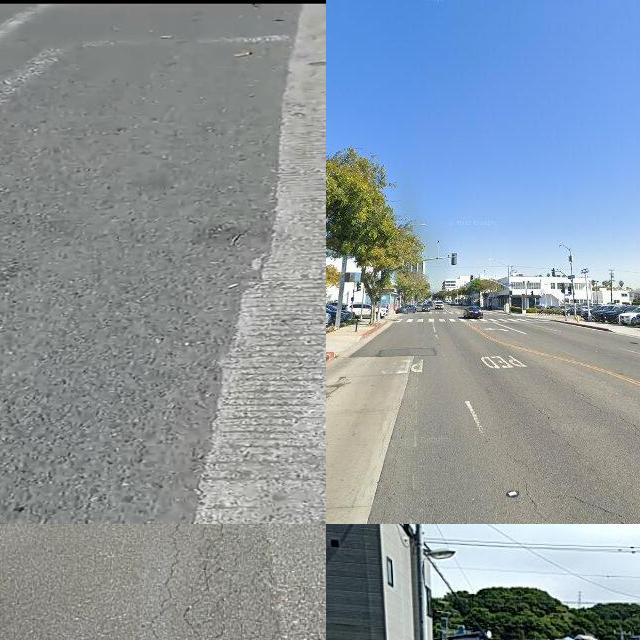Sambungan: (189, 5, 326, 524), (326, 356, 416, 524)
